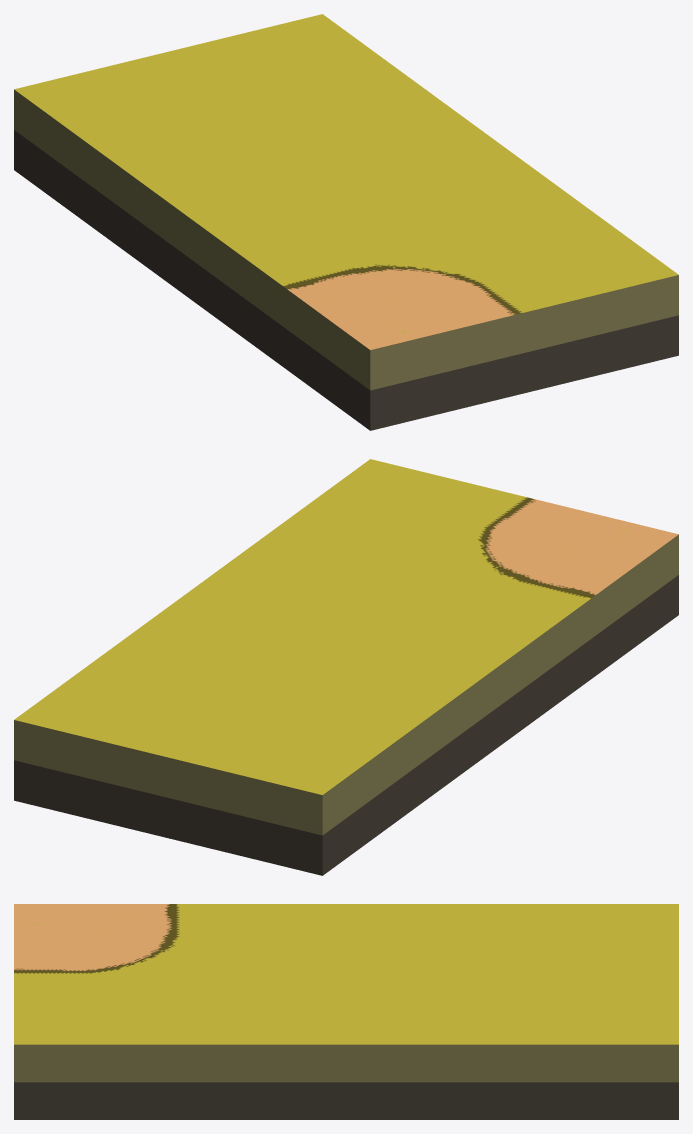
Rendered from tile1_2 sand top Corner.fbx.
3 renders of one model, top to bottom at view 1: azimuth 30°, elevation 25°; view 2: azimuth 150°, elevation 25°; view 3: azimuth 270°, elevation 25°, orthographic. The views are drawn at different scales.
Parts seen in each view (by area): view 1: Cube.001; view 2: Cube.001; view 3: Cube.001.
Boxes of the visible parts, x1=… form: Cube.001: x1=14, y1=14, x2=678, y2=430; Cube.001: x1=14, y1=459, x2=678, y2=875; Cube.001: x1=14, y1=904, x2=678, y2=1119.
Size of the model in its own units: 200 by 50 by 400.
Materials: 1 (1 with a texture image).
